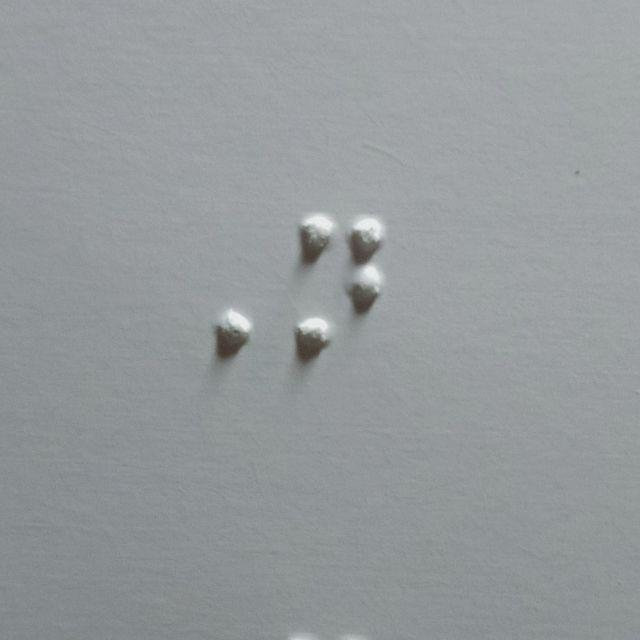N: (299, 213, 382, 354)
capital: (169, 212, 252, 353)
